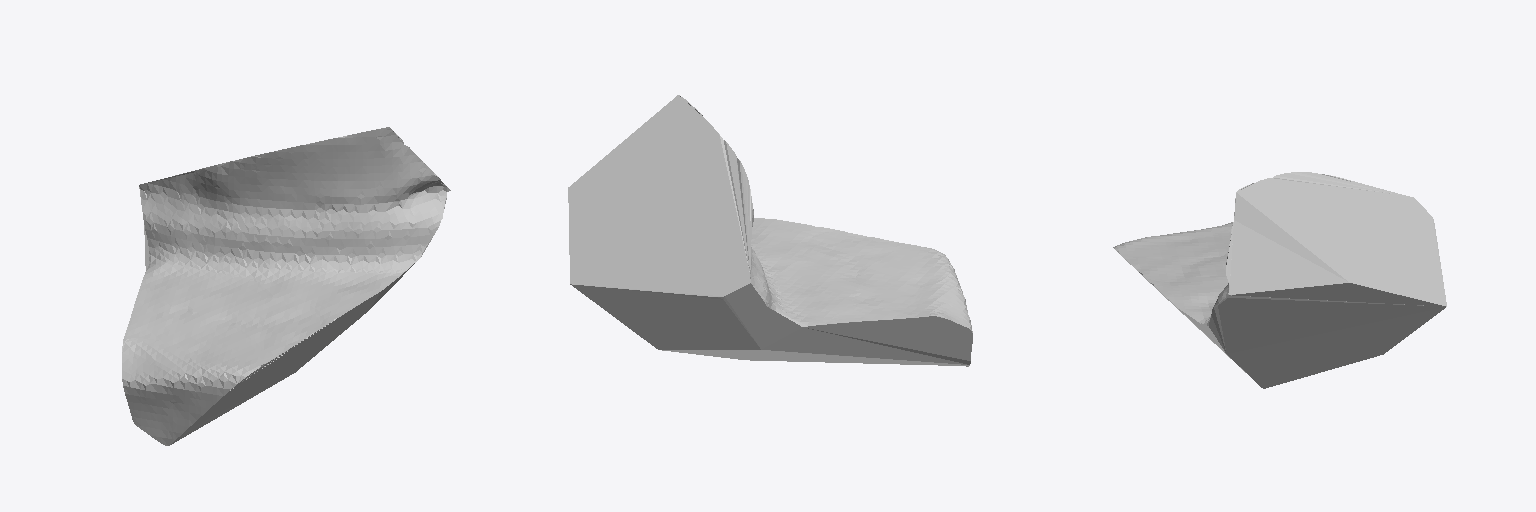
The model's file is low_cell_063.obj.
3 views of the same model, side by side, from view 1: azimuth 30°, elevation 25°; view 2: azimuth 150°, elevation 25°; view 3: azimuth 270°, elevation 25° (orthographic).
Parts seen in each view (by area): view 1: low_cell.063_low_cell.062; view 2: low_cell.063_low_cell.062; view 3: low_cell.063_low_cell.062.
Boxes of the visible parts, x1,y1,x2,y2 form: low_cell.063_low_cell.062: [122, 127, 450, 445]; low_cell.063_low_cell.062: [568, 95, 972, 366]; low_cell.063_low_cell.062: [1113, 172, 1446, 388].
Bounding box in the file's own units: 0.9516 × 0.6354 × 0.8158.